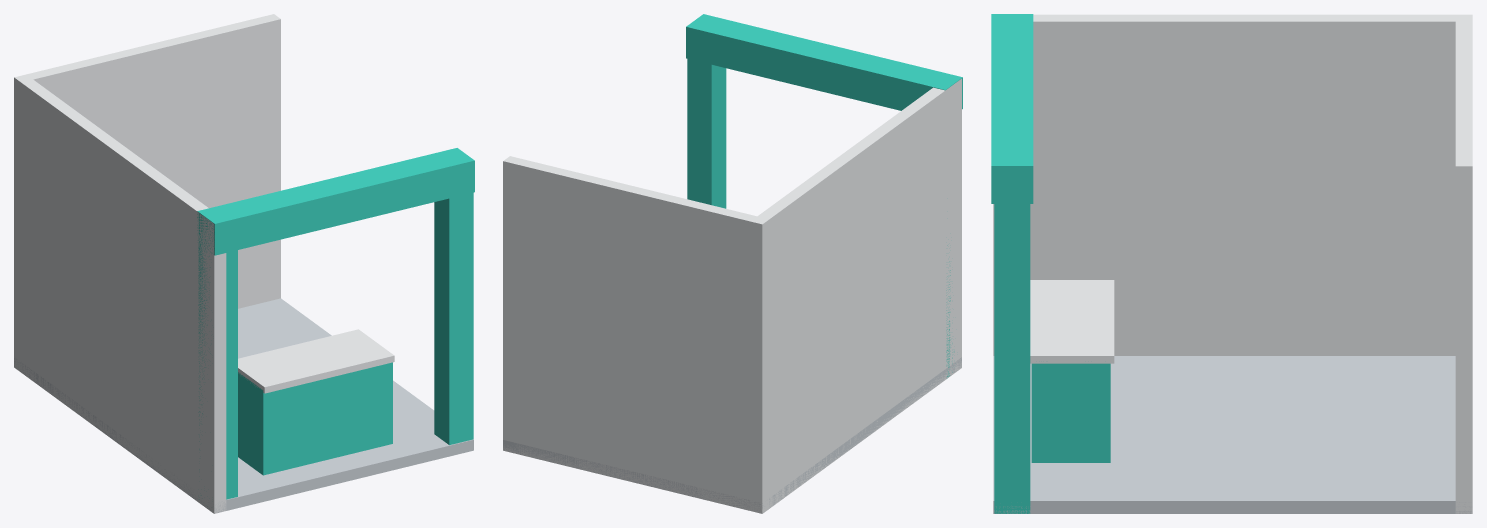
3 renders of one model, left to right at view 1: azimuth 30°, elevation 25°; view 2: azimuth 150°, elevation 25°; view 3: azimuth 270°, elevation 25°, orthographic. The views are drawn at different scales.
Parts seen in each view (by area): view 1: Exhibition Booth Concept; view 2: Exhibition Booth Concept; view 3: Exhibition Booth Concept.
Part boxes in pixels (x1,y1,x2,y2): Exhibition Booth Concept: (14,14,474,513); Exhibition Booth Concept: (503,14,962,513); Exhibition Booth Concept: (991,14,1472,513).
Bounding box in the file's own units: 3 × 3.2 × 4.02.
